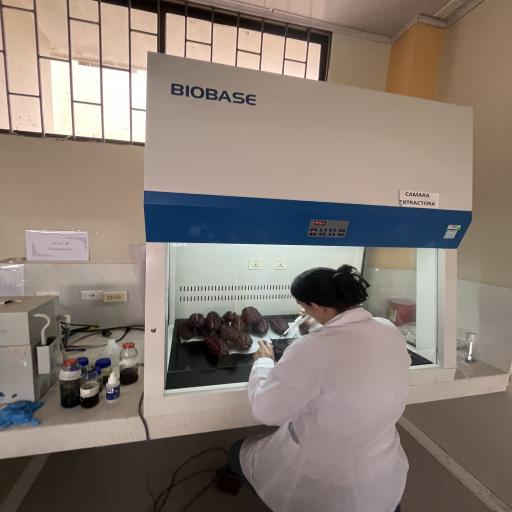Camara_Extractora_Biobase: (124, 44, 478, 425)
